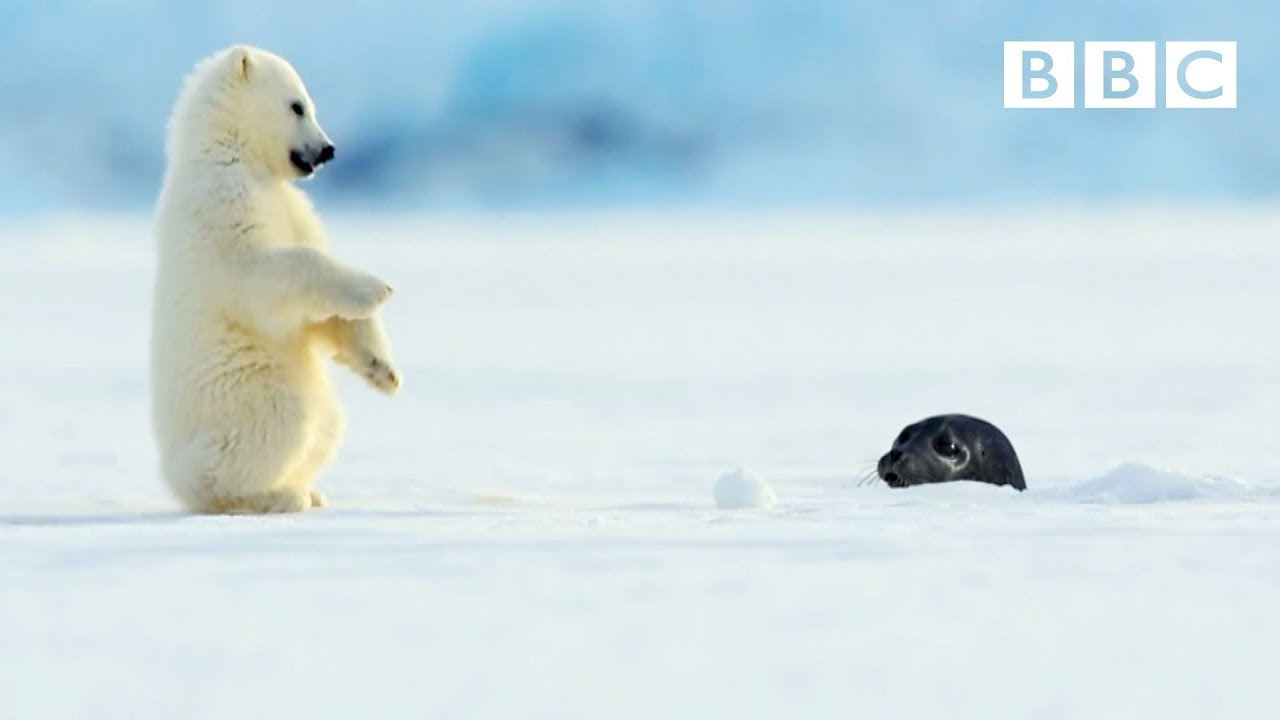PolarBear: (110, 24, 435, 543)
